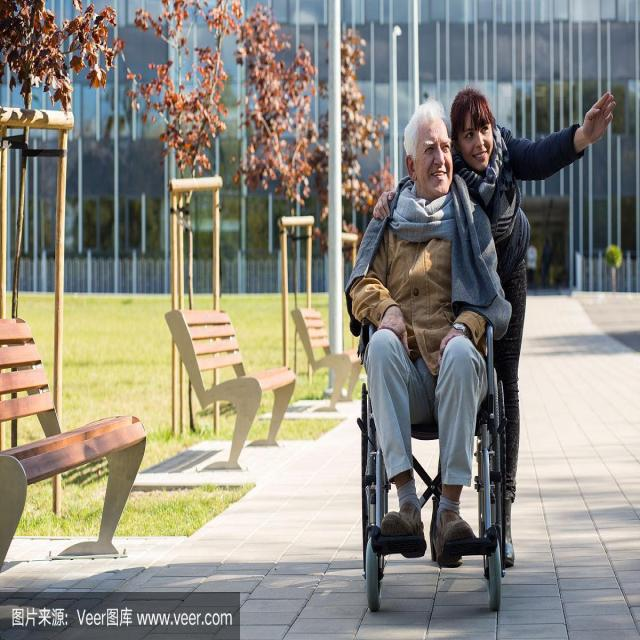wheelchairs: (338, 307, 525, 625)
